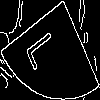L: (25, 24, 64, 72)
